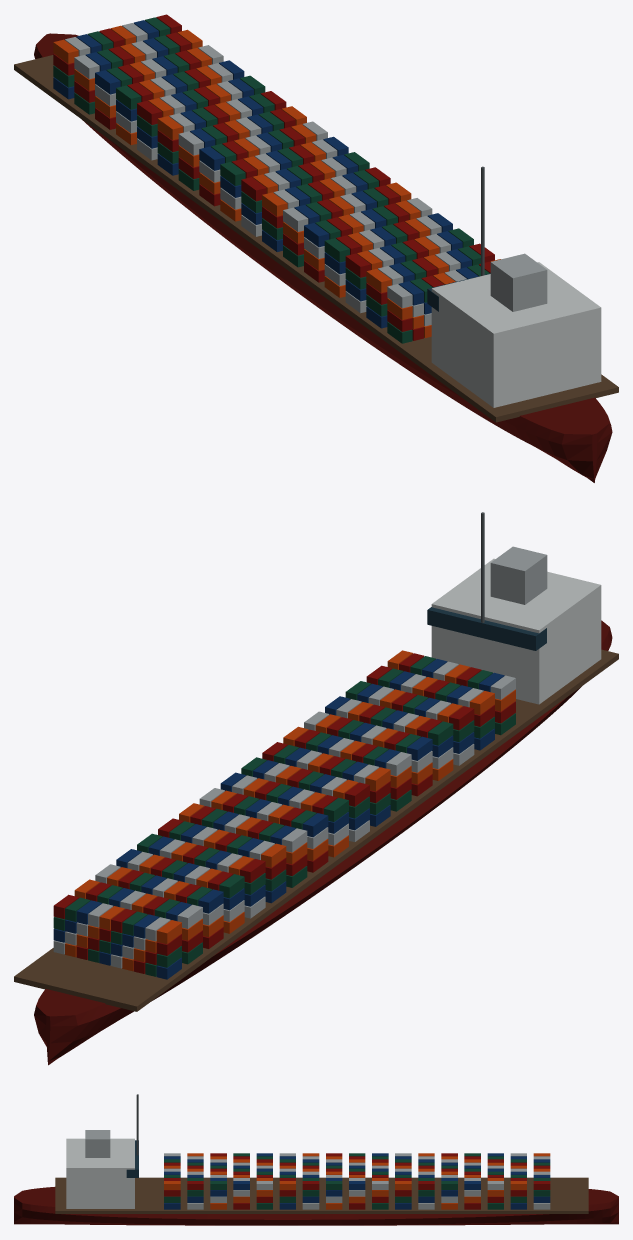
Rendered from modern_container_ship.obj.
3 renders of one model, top to bottom at view 1: azimuth 30°, elevation 25°; view 2: azimuth 150°, elevation 25°; view 3: azimuth 270°, elevation 25°, orthographic. The views are drawn at different scales.
Parts seen in each view (by area): view 1: containers, superstructure, hull, main_deck, funnel; view 2: containers, superstructure, main_deck, hull, funnel, bridge; view 3: containers, main_deck, hull, superstructure, funnel, bridge.
Boxes of the visible parts, x1,y1,x2,y2 form: containers: [53, 14, 500, 343]; superstructure: [431, 262, 601, 407]; hull: [34, 33, 612, 482]; main_deck: [14, 55, 618, 422]; funnel: [490, 253, 547, 311]; containers: [53, 650, 515, 979]; superstructure: [431, 558, 601, 704]; main_deck: [14, 649, 618, 1011]; hull: [34, 620, 612, 1065]; funnel: [490, 546, 547, 604]; bridge: [427, 607, 546, 650]; containers: [164, 1153, 550, 1209]; main_deck: [55, 1177, 588, 1213]; hull: [14, 1187, 618, 1225]; superstructure: [66, 1138, 134, 1208]; funnel: [85, 1130, 110, 1157]; bridge: [126, 1140, 138, 1177].
Size of the model in its own units: 30.05 by 52 by 220.
